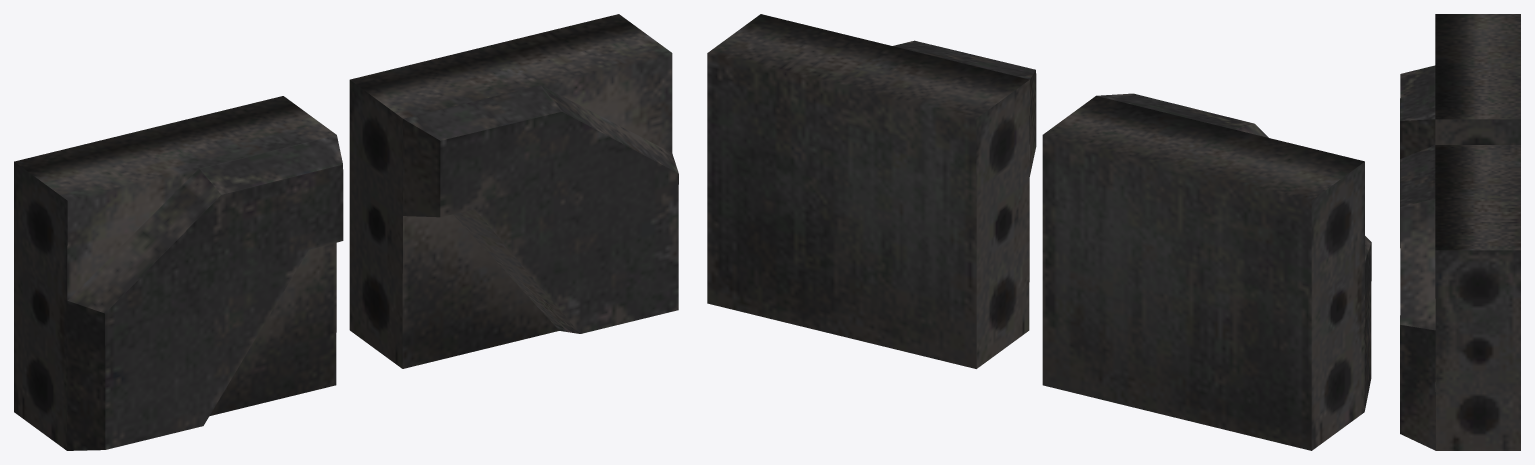
3 views of the same model, side by side, from view 1: azimuth 30°, elevation 25°; view 2: azimuth 150°, elevation 25°; view 3: azimuth 270°, elevation 25° (orthographic). The views are drawn at different scales.
Visible parts, largest first — view 1: set_0_group_0; view 2: set_0_group_0; view 3: set_0_group_0.
Part boxes in pixels (x1,y1,x2,y2): set_0_group_0: [14, 14, 678, 450]; set_0_group_0: [707, 14, 1371, 450]; set_0_group_0: [1400, 14, 1520, 450].
Bounding box in the file's own units: 0.4262 × 0.1688 × 0.0921.
Materials: 1 (1 with a texture image).
